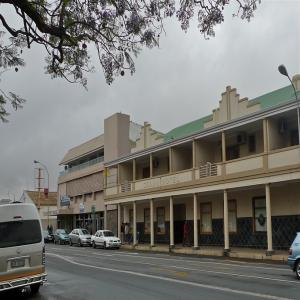Vehicle-registration-plate: (12, 259, 27, 269)
